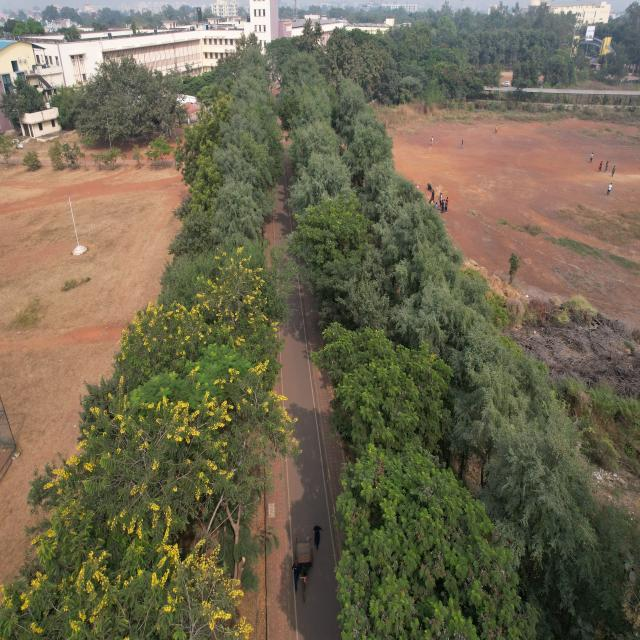Devakanchan tree: (348, 261, 386, 322)
Neem Tree: (181, 117, 217, 207)
